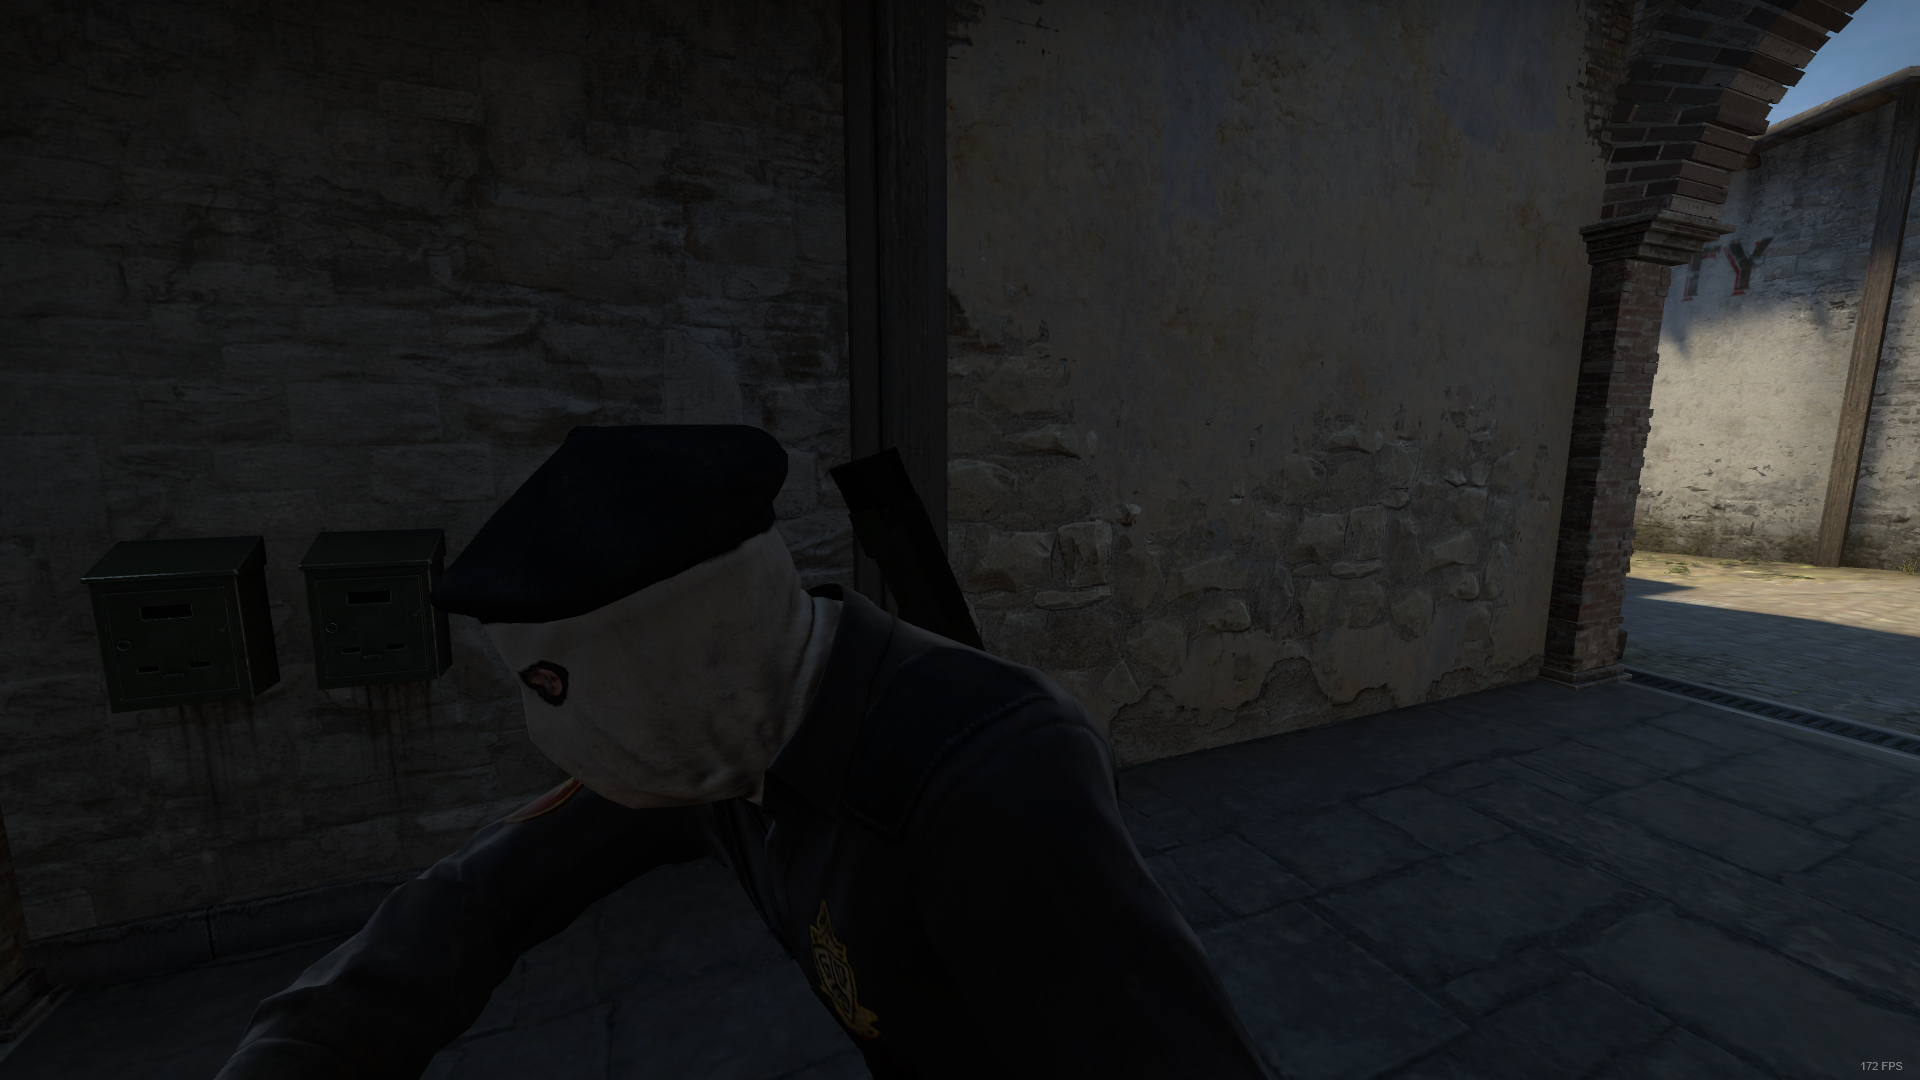t: (204, 425, 1271, 1080)
